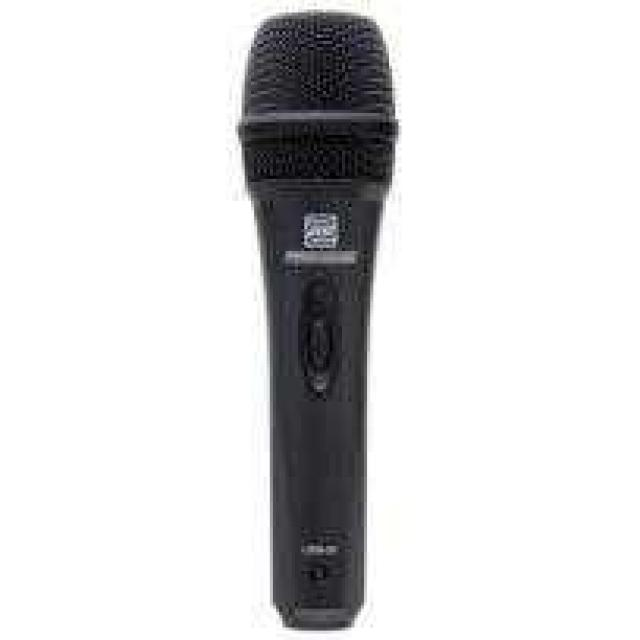microphone: (234, 3, 394, 640)
